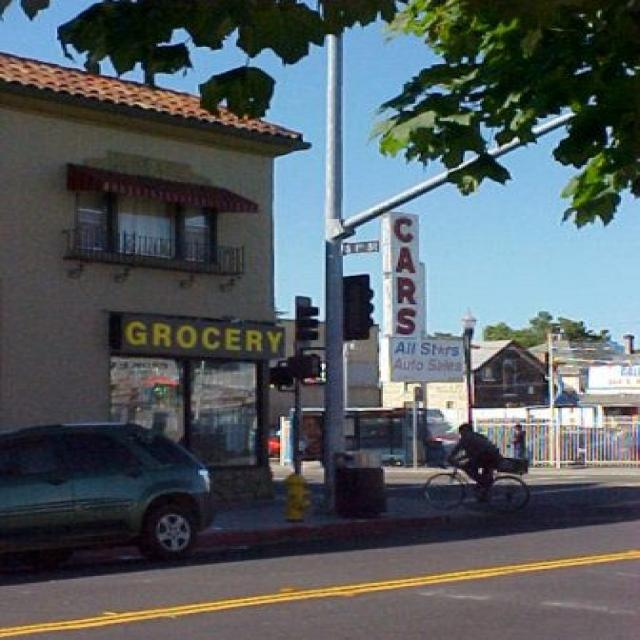Vehicle: (0, 422, 217, 563), (278, 402, 455, 466)
